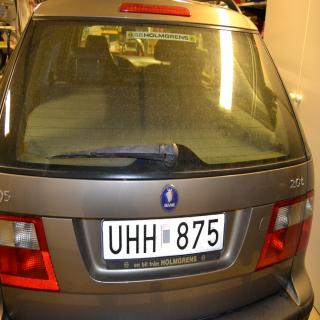license: (102, 213, 226, 262)
